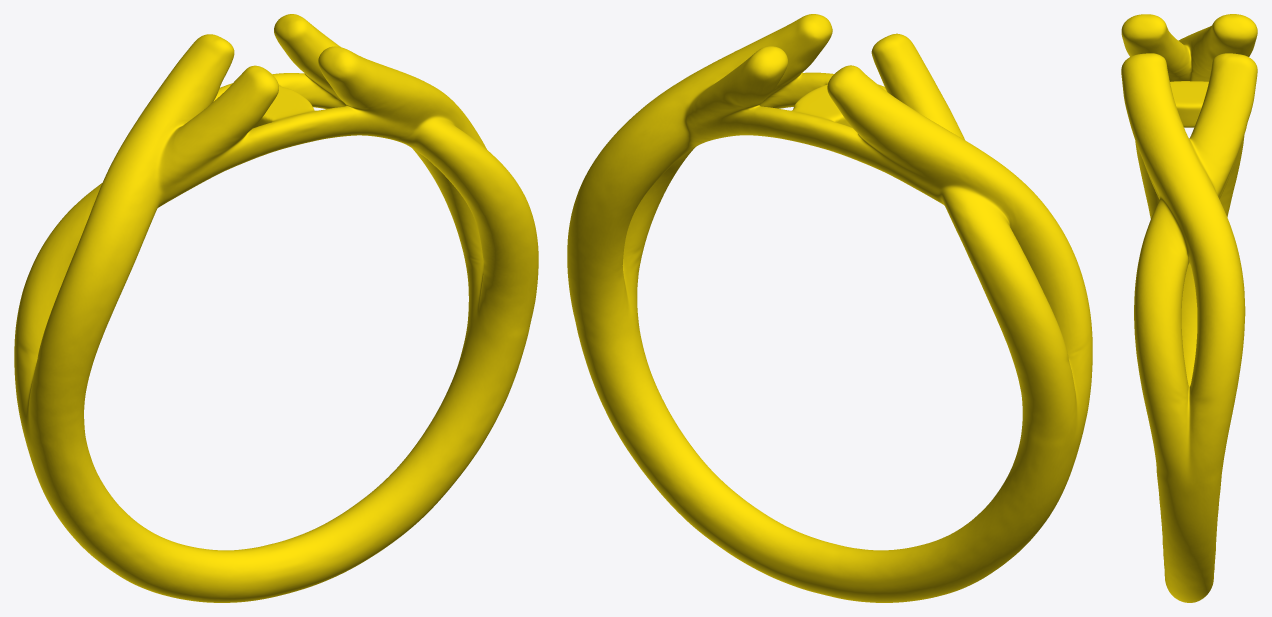
File: Shank_Twist_Plain Gold_A_No, Hidden Halo_Band.glb
The picture shows the model from 3 angles, left to right: view 1: azimuth 30°, elevation 25°; view 2: azimuth 150°, elevation 25°; view 3: azimuth 270°, elevation 25°; orthographic projection. The views are drawn at different scales.
Size of the model in its own units: 0.0215 by 0.0226 by 0.00518.
